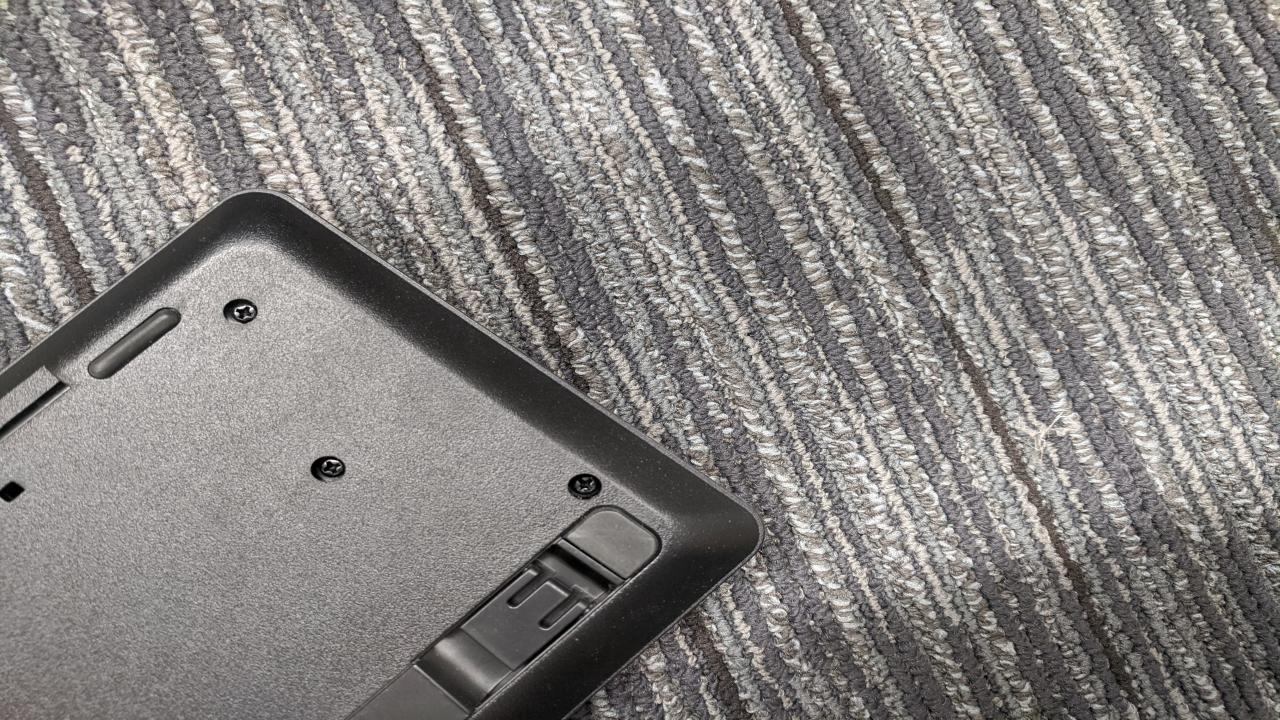CRS: (222, 300, 260, 325), (573, 473, 601, 495), (318, 455, 345, 477)
